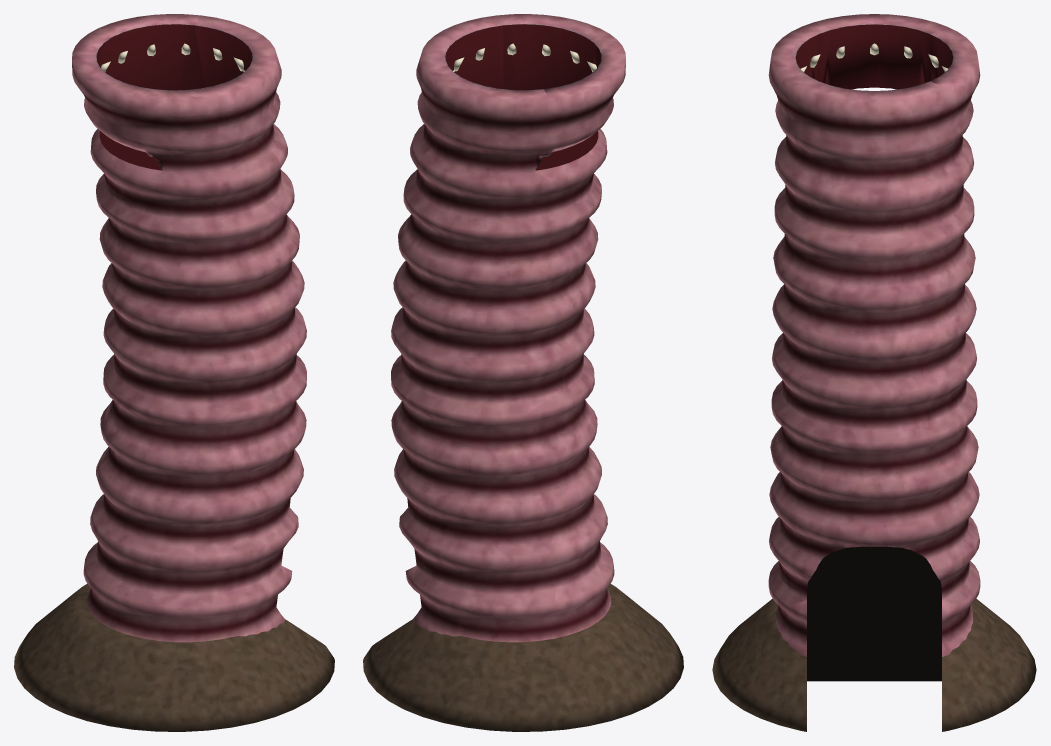
Rendered from giant-worm.glb.
The picture shows the model from 3 angles, left to right: view 1: azimuth 30°, elevation 25°; view 2: azimuth 150°, elevation 25°; view 3: azimuth 270°, elevation 25°; orthographic projection.
Parts seen in each view (by area): view 1: worm, mound; view 2: worm, mound; view 3: worm, mound.
Boxes of the visible parts, left/top/right/bottom form: worm: left=72, top=14, right=306, bottom=642; mound: left=14, top=583, right=334, bottom=731; worm: left=391, top=14, right=625, bottom=642; mound: left=363, top=583, right=683, bottom=731; worm: left=768, top=14, right=980, bottom=656; mound: left=712, top=599, right=1036, bottom=731.
Bounding box in the file's own units: 6.86 × 15 × 7.2.
Materials: 5 (2 with a texture image).
